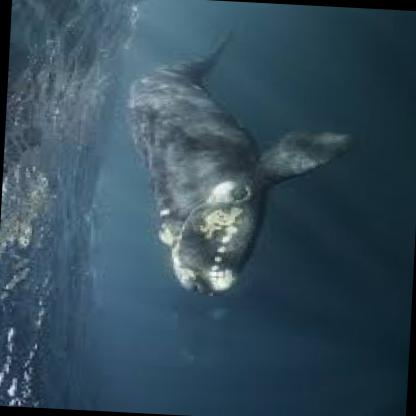blue_whale: (102, 12, 396, 348)
